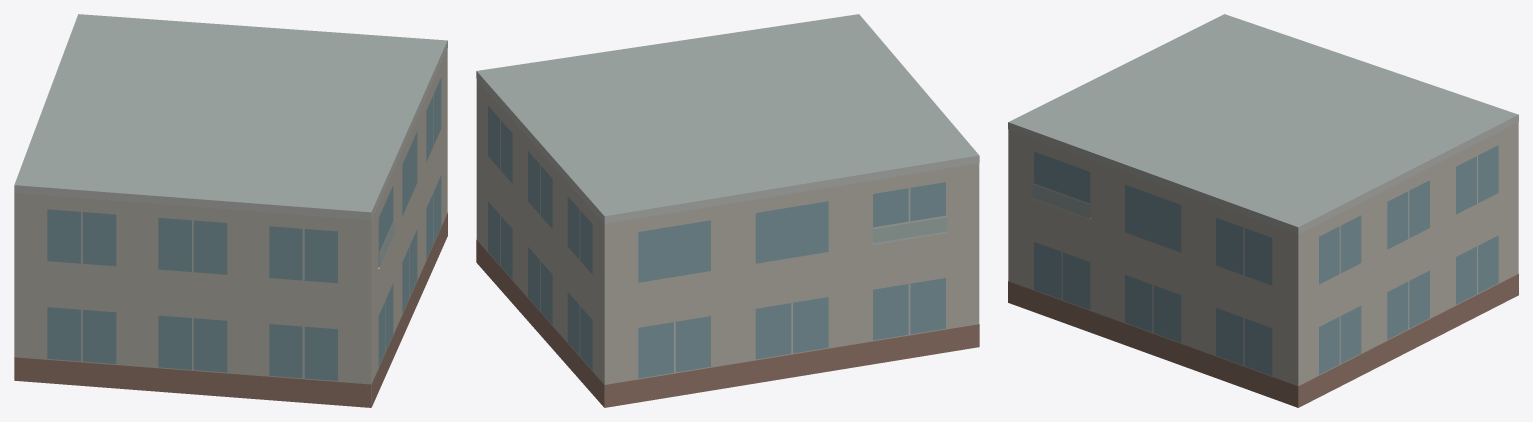
Rendered from survey-upis-32672871.glb.
The picture shows the model from 3 angles, left to right: view 1: azimuth 30°, elevation 25°; view 2: azimuth 150°, elevation 25°; view 3: azimuth 270°, elevation 25°; orthographic projection. The views are drawn at different scales.
Visible parts, largest first — view 1: survey-upis-32672871.tmp; view 2: survey-upis-32672871.tmp; view 3: survey-upis-32672871.tmp.
Boxes of the visible parts, x1,y1,x2,y2 form: survey-upis-32672871.tmp: (14,14,447,407); survey-upis-32672871.tmp: (476,14,979,407); survey-upis-32672871.tmp: (1008,14,1518,407).
Bounding box in the file's own units: 15.47 × 6.1 × 15.64.
